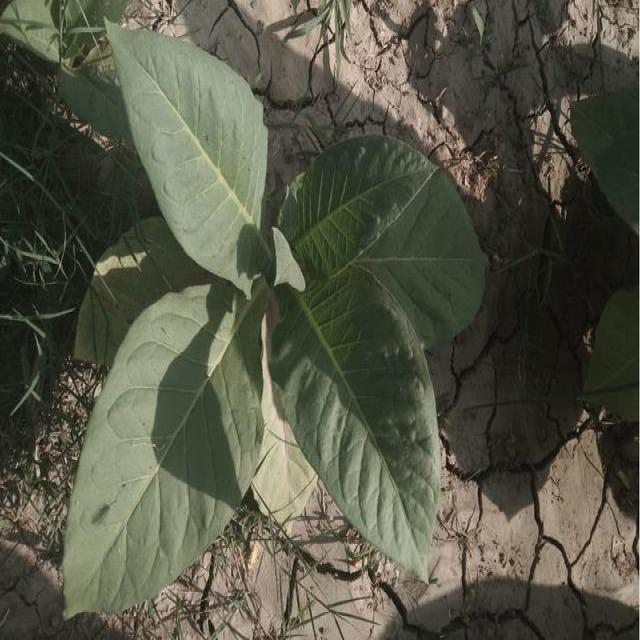crop: (38, 26, 490, 606), (570, 95, 640, 240), (581, 287, 640, 426)
